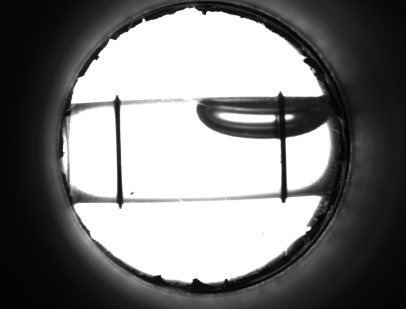line: (112, 117, 125, 191), (277, 145, 292, 186)
